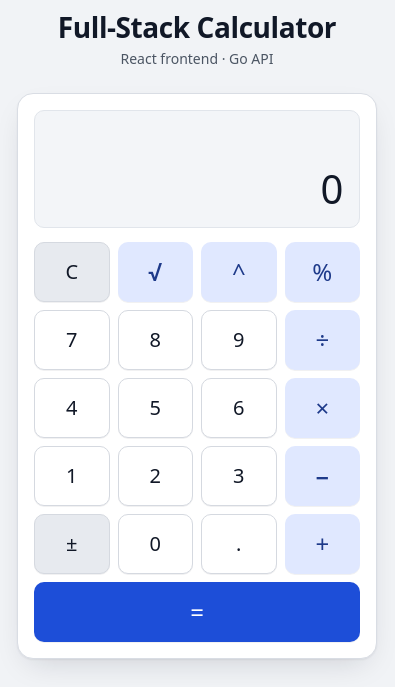
Test: App › API errors › shows a clear message for division by zero
This screenshot has width=395, height=687.
Click the button "8" at (155, 340), box [118, 310, 193, 370]
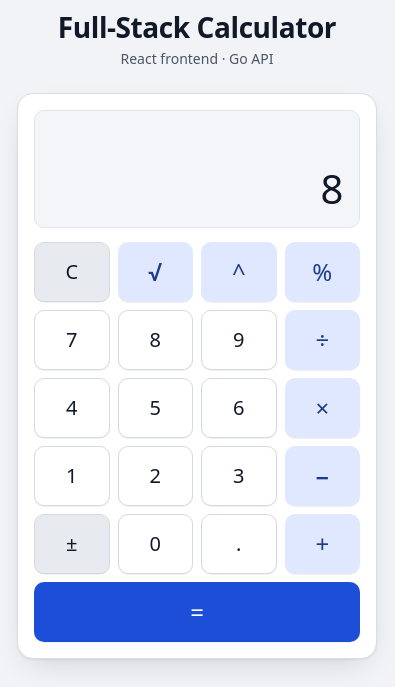
Click the button named "Divide" at (322, 340), box [284, 310, 360, 370]
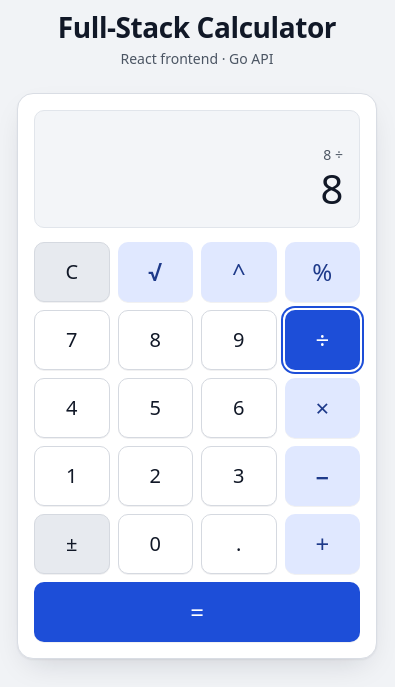
Click the button "0" at (155, 544), box [118, 514, 193, 574]
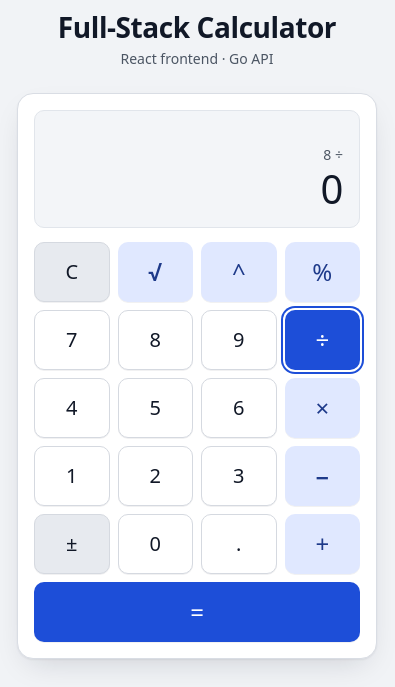
Click the button named "Equals" at (197, 612), box [34, 582, 360, 642]
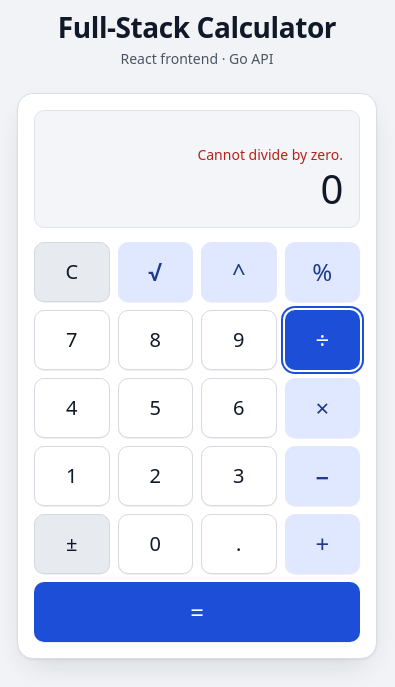
Expected: the message reads "Cannot divide by zero.", [197, 145, 343, 164]
